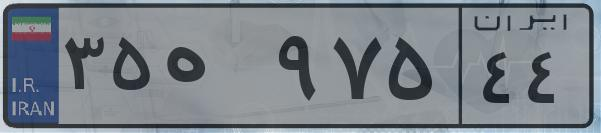3: (57, 26, 110, 100)
4: (475, 38, 525, 113), (525, 38, 570, 115)
5: (385, 28, 445, 110), (110, 28, 158, 98)
7: (330, 28, 385, 110)
9: (270, 28, 330, 110)
ه: (158, 20, 270, 120)
